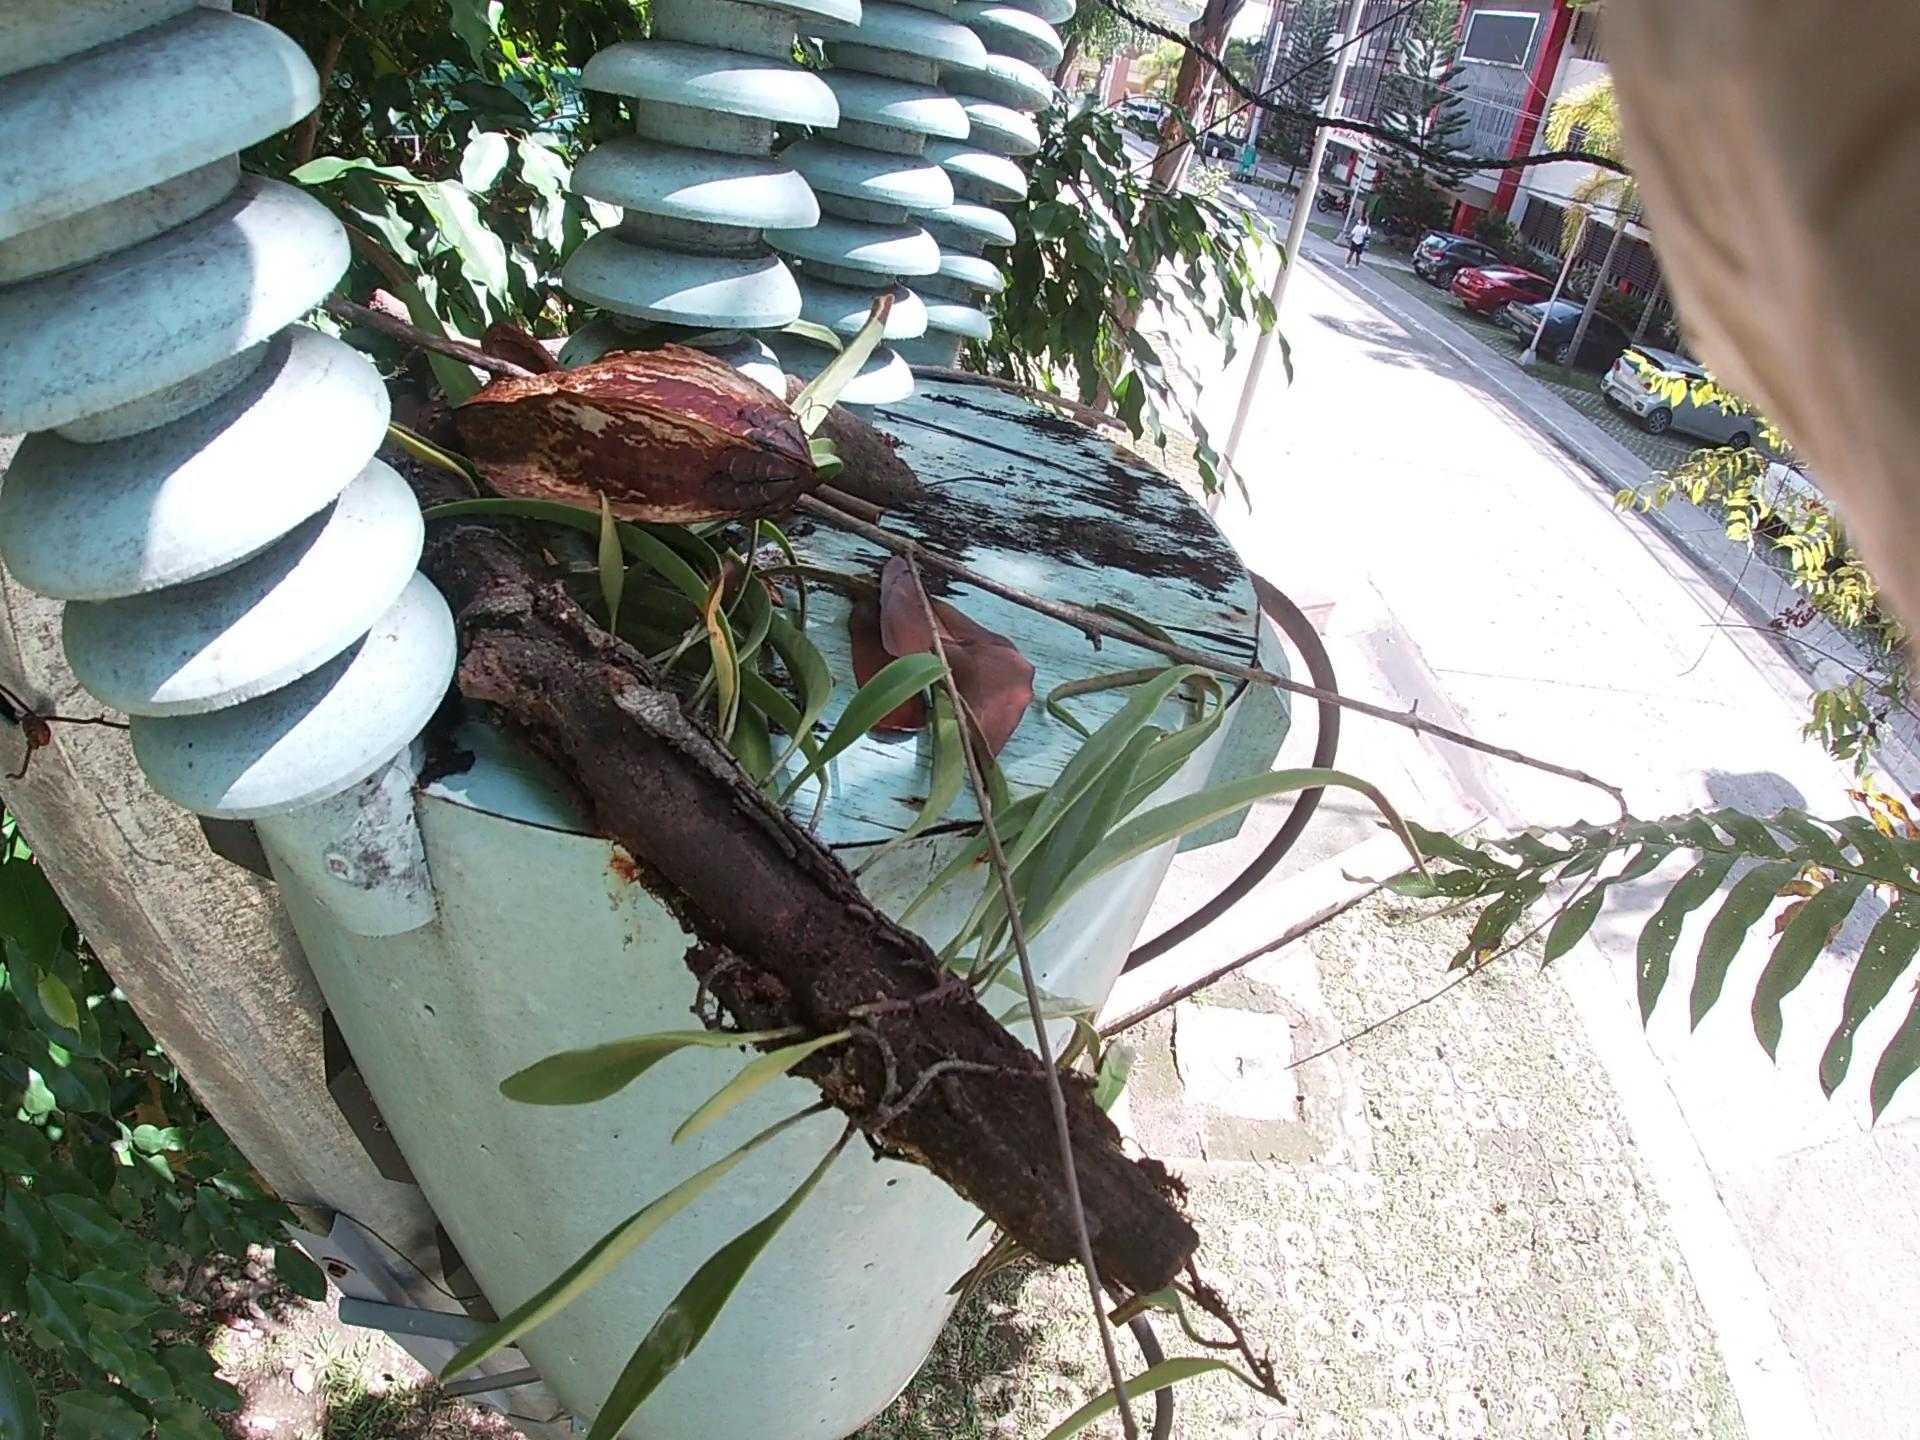branch with leaves: (308, 446, 1194, 1218)
leaf: (838, 493, 1147, 726)
mahogany fruit: (452, 257, 850, 620), (788, 366, 977, 557)
tree branch: (405, 189, 1460, 858), (883, 303, 1190, 466)
